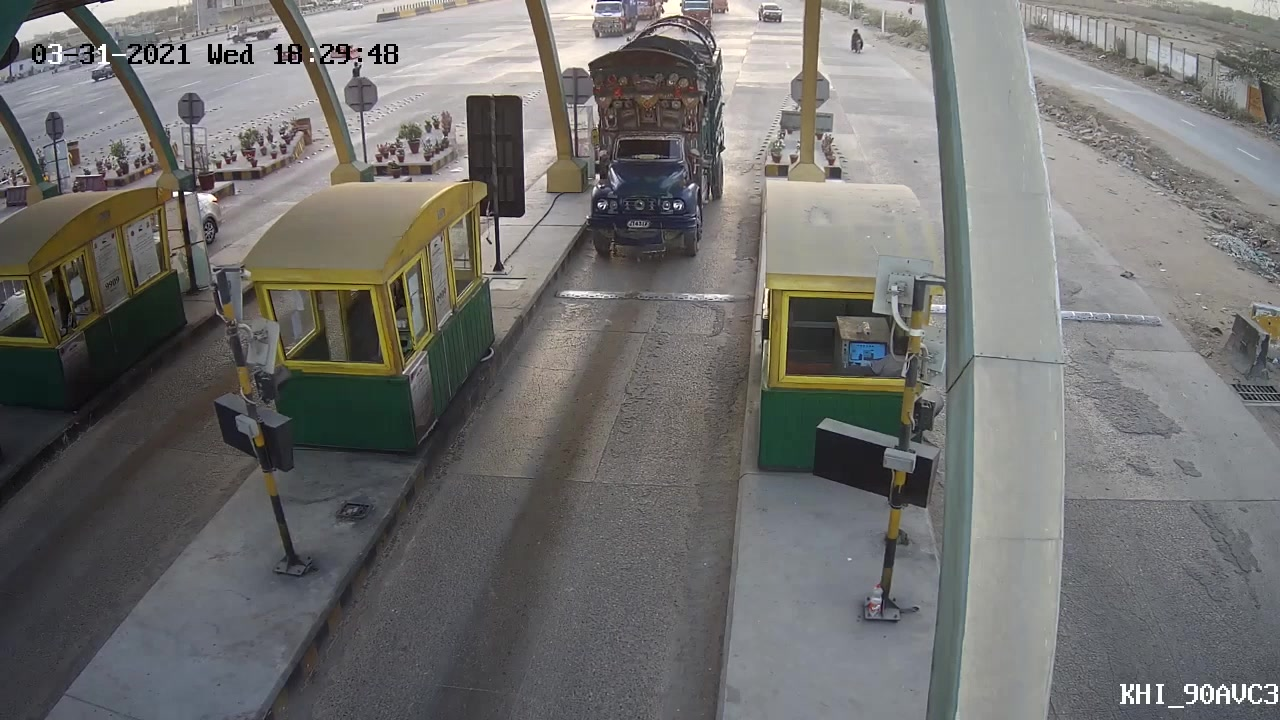F5: (577, 97, 719, 271)
